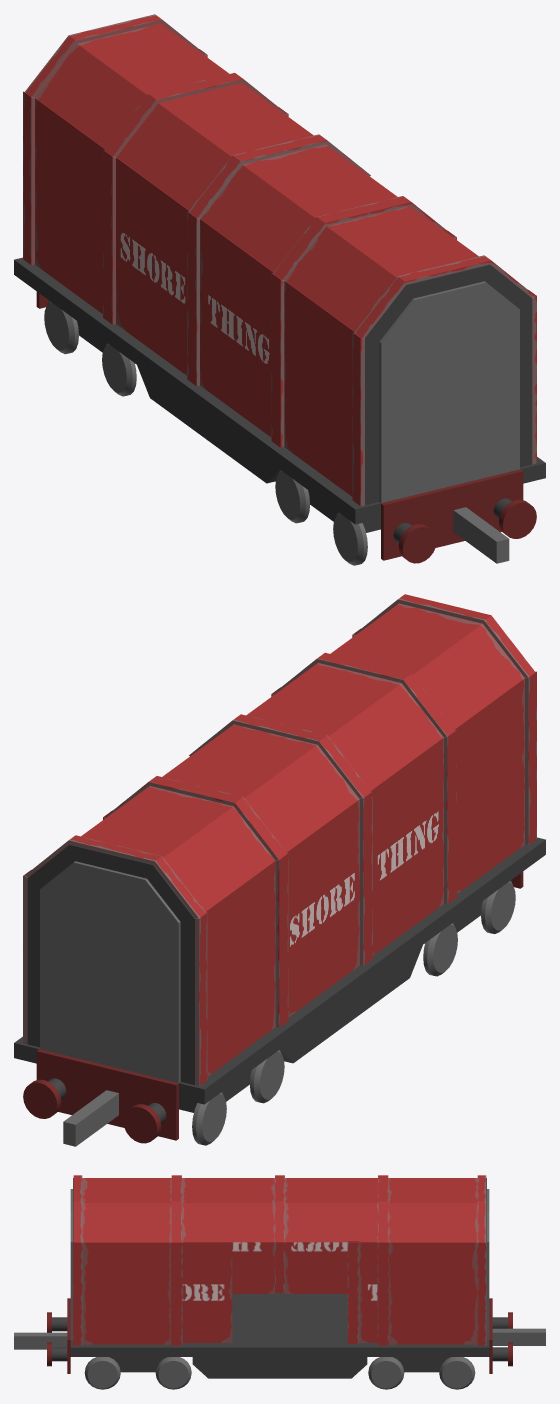
File: Open_Carriage.fbx
3 views of the same model, one above another, from view 1: azimuth 30°, elevation 25°; view 2: azimuth 150°, elevation 25°; view 3: azimuth 270°, elevation 25° (orthographic). The views are drawn at different scales.
Parts seen in each view (by area): view 1: polySurface279, polySurface275; view 2: polySurface279, polySurface275; view 3: polySurface279, polySurface275, polySurface278, polySurface277.
Boxes of the visible parts, box(x1,y1,x2,y2) form: polySurface279: box(14, 49, 545, 565); polySurface275: box(25, 14, 534, 338); polySurface279: box(14, 628, 545, 1146); polySurface275: box(25, 594, 534, 918); polySurface279: box(14, 1178, 545, 1389); polySurface275: box(73, 1175, 486, 1242); polySurface278: box(182, 1242, 232, 1342); polySurface277: box(347, 1241, 377, 1343).
Size of the model in its own units: 1.9 by 2.79 by 7.5.
